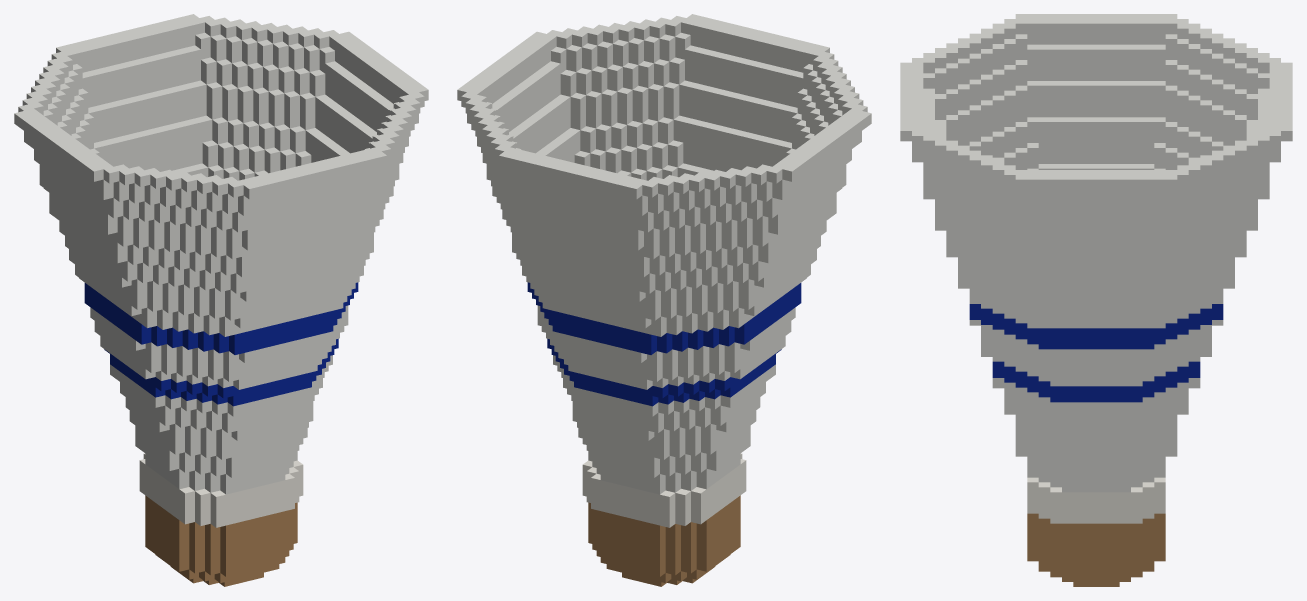
File: shuttlecock.glb
The picture shows the model from 3 angles, left to right: view 1: azimuth 30°, elevation 25°; view 2: azimuth 150°, elevation 25°; view 3: azimuth 270°, elevation 25°; orthographic projection.
Visible parts, largest first — view 1: shuttlecock:compound; view 2: shuttlecock:compound; view 3: shuttlecock:compound.
Part boxes in pixels (x1=…): shuttlecock:compound: x1=14, y1=14, x2=428, y2=586; shuttlecock:compound: x1=457, y1=14, x2=871, y2=586; shuttlecock:compound: x1=900, y1=14, x2=1292, y2=586.
Size of the model in its own units: 0.068 by 0.09 by 0.068.
